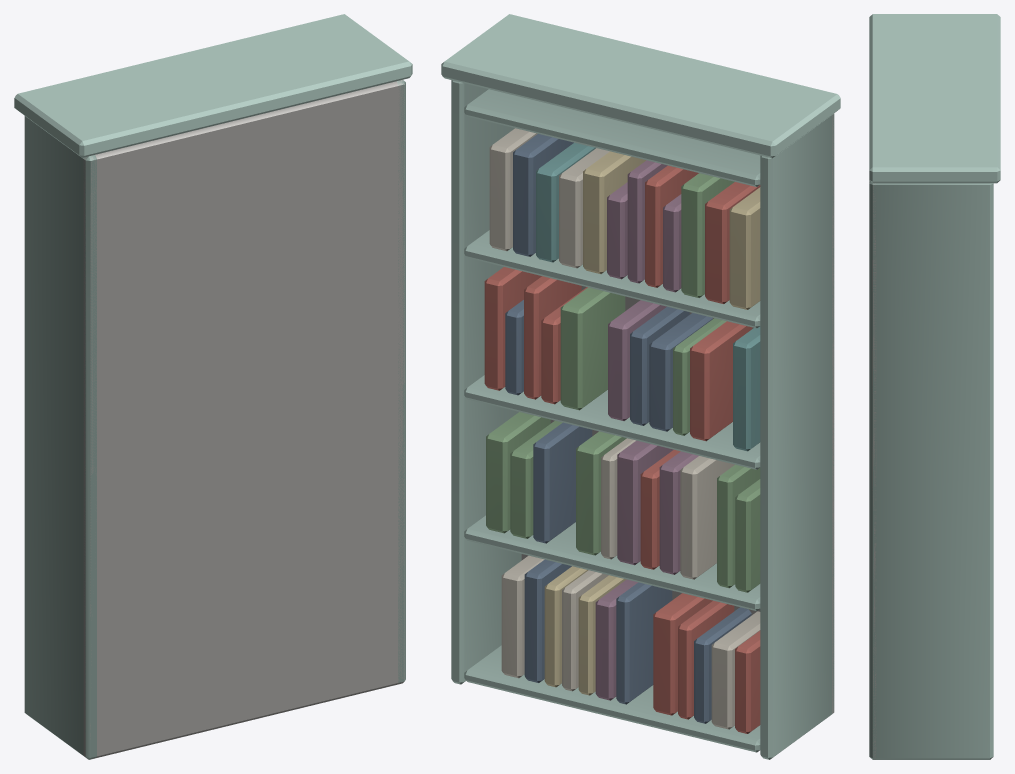
File: furn_bookshelf__mint.glb
3 renders of one model, left to right at view 1: azimuth 30°, elevation 25°; view 2: azimuth 150°, elevation 25°; view 3: azimuth 270°, elevation 25°, orthographic. The views are drawn at different scales.
Size of the model in its own units: 1.04 by 1.85 by 0.37.
